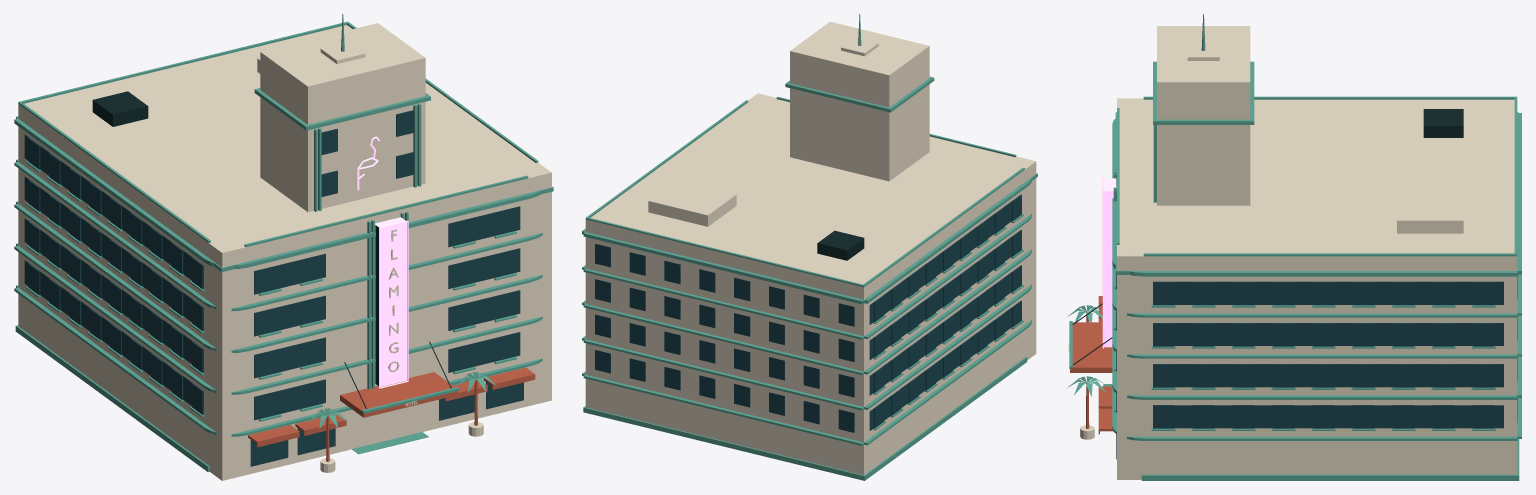
Rendered from oc_hotel_flamingo_01.glb.
3 renders of one model, left to right at view 1: azimuth 30°, elevation 25°; view 2: azimuth 150°, elevation 25°; view 3: azimuth 270°, elevation 25°, orthographic. The views are drawn at different scales.
Visible parts, largest first — view 1: LOD1_OC_Stucco_Ivory, LOD2_OC_Stucco_Ivory, LOD3_OC_Stucco_Ivory, LOD1_OC_Glazing, LOD1_OC_Deco_Mint, LOD2_OC_Glazing, LOD2_OC_Deco_Mint, LOD2_OC_Neon_Rose, LOD1_OC_Coral, LOD1_OC_Charcoal, LOD2_OC_Coral, LOD1_OC_Neon_Rose; view 2: LOD1_OC_Stucco_Ivory, LOD2_OC_Stucco_Ivory, LOD1_OC_Glazing, LOD1_OC_Deco_Mint, LOD3_OC_Stucco_Ivory, LOD2_OC_Glazing, LOD2_OC_Deco_Mint, LOD1_OC_Charcoal; view 3: LOD1_OC_Stucco_Ivory, LOD2_OC_Stucco_Ivory, LOD3_OC_Stucco_Ivory, LOD1_OC_Glazing, LOD1_OC_Deco_Mint, LOD2_OC_Glazing, LOD2_OC_Deco_Mint, LOD2_OC_Coral, LOD2_OC_Neon_Rose, LOD1_OC_Charcoal, LOD1_OC_Coral.
Part boxes in pixels (x1,y1,x2,y2): LOD1_OC_Stucco_Ivory: [18, 25, 541, 472]; LOD2_OC_Stucco_Ivory: [18, 53, 528, 474]; LOD3_OC_Stucco_Ivory: [18, 23, 551, 480]; LOD1_OC_Glazing: [28, 110, 523, 466]; LOD1_OC_Deco_Mint: [14, 17, 541, 471]; LOD2_OC_Glazing: [24, 135, 520, 420]; LOD2_OC_Deco_Mint: [14, 14, 542, 471]; LOD2_OC_Neon_Rose: [376, 218, 406, 386]; LOD1_OC_Coral: [248, 367, 535, 461]; LOD1_OC_Charcoal: [92, 91, 451, 408]; LOD2_OC_Coral: [340, 372, 454, 417]; LOD1_OC_Neon_Rose: [357, 136, 408, 388]; LOD1_OC_Stucco_Ivory: [585, 37, 1027, 475]; LOD2_OC_Stucco_Ivory: [585, 47, 1024, 474]; LOD1_OC_Glazing: [595, 194, 1021, 432]; LOD1_OC_Deco_Mint: [582, 14, 1031, 476]; LOD3_OC_Stucco_Ivory: [748, 21, 1036, 472]; LOD2_OC_Glazing: [869, 196, 1018, 430]; LOD2_OC_Deco_Mint: [582, 14, 1031, 480]; LOD1_OC_Charcoal: [817, 230, 864, 260]; LOD1_OC_Stucco_Ivory: [1068, 43, 1514, 439]; LOD2_OC_Stucco_Ivory: [1130, 57, 1517, 474]; LOD3_OC_Stucco_Ivory: [1117, 26, 1517, 479]; LOD1_OC_Glazing: [1116, 275, 1517, 459]; LOD1_OC_Deco_Mint: [1066, 14, 1521, 480]; LOD2_OC_Glazing: [1116, 275, 1503, 428]; LOD2_OC_Deco_Mint: [1112, 14, 1517, 440]; LOD2_OC_Coral: [1070, 322, 1112, 372]; LOD2_OC_Neon_Rose: [1104, 178, 1113, 347]; LOD1_OC_Charcoal: [1072, 109, 1463, 365]; LOD1_OC_Coral: [1086, 296, 1113, 434].
Size of the model in its own units: 28.7 by 32 by 34.15.
